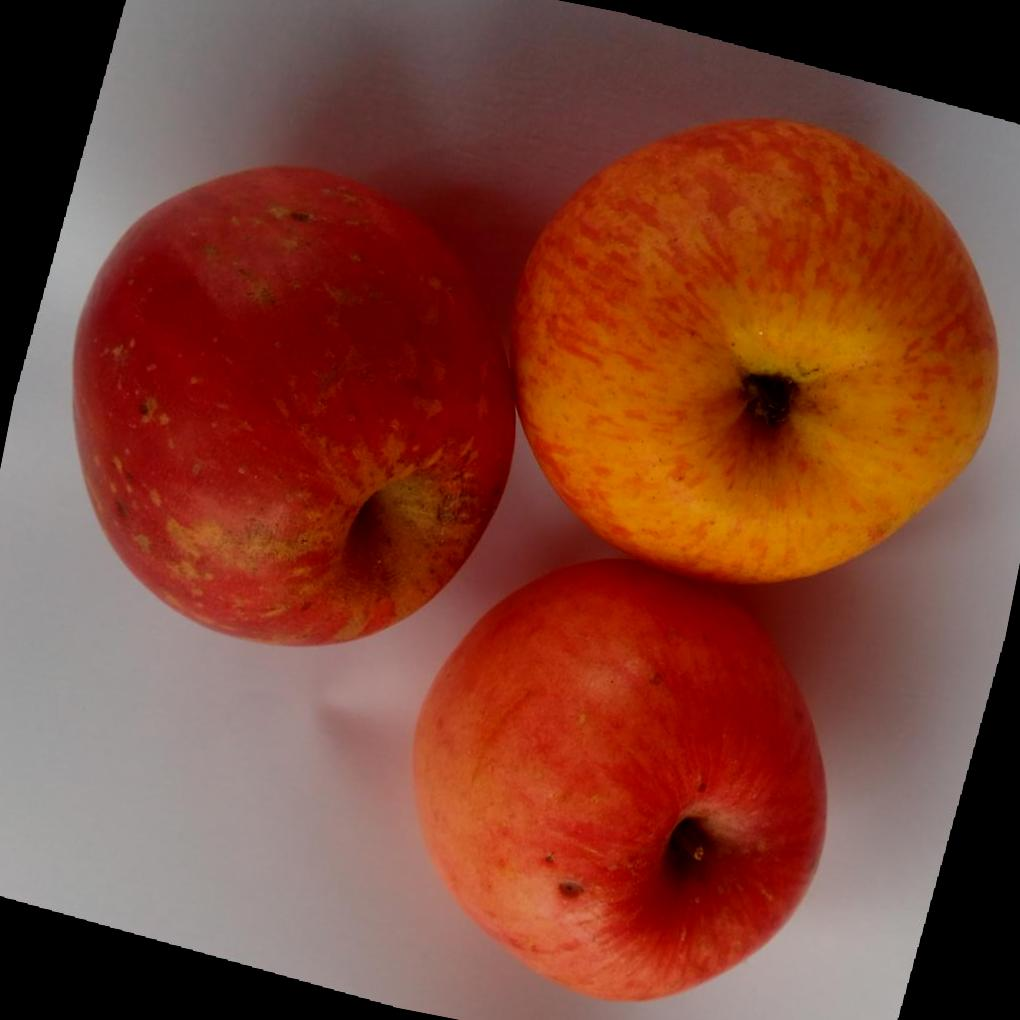FreshGuava: (66, 116, 997, 1003)
